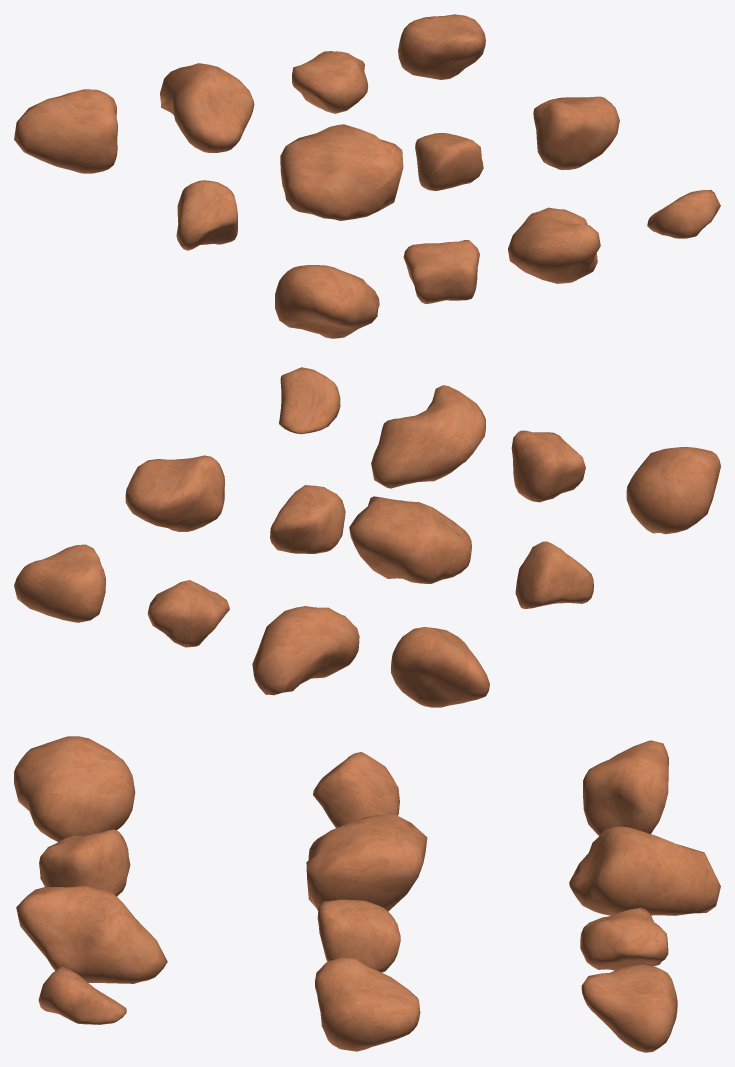
Rendered from Kayalar (1).fbx.
The picture shows the model from 3 angles, top to bottom: view 1: azimuth 30°, elevation 25°; view 2: azimuth 150°, elevation 25°; view 3: azimuth 270°, elevation 25°; orthographic projection. The views are drawn at different scales.
Parts seen in each view (by area): view 1: Rock08, Rock03, Rock02, Rock05, Rock04, Rock12, Rock01, Rock06, Rock09, Rock07, Rock11, Rock10; view 2: Rock08, Rock04, Rock02, Rock05, Rock12, Rock03, Rock01, Rock06, Rock11, Rock09, Rock07, Rock10; view 3: Rock04, Rock02, Rock05, Rock08, Rock12, Rock03, Rock01, Rock11, Rock06, Rock09, Rock07, Rock10.
Boxes of the visible parts, bbox=[...] form: Rock08: bbox=[280, 124, 403, 220]; Rock03: bbox=[14, 89, 118, 173]; Rock02: bbox=[160, 63, 254, 152]; Rock05: bbox=[275, 265, 379, 338]; Rock04: bbox=[508, 207, 600, 283]; Rock12: bbox=[533, 96, 619, 169]; Rock01: bbox=[398, 14, 485, 79]; Rock06: bbox=[403, 240, 479, 303]; Rock09: bbox=[176, 180, 237, 250]; Rock07: bbox=[292, 51, 368, 113]; Rock11: bbox=[415, 133, 483, 190]; Rock10: bbox=[647, 190, 720, 238]; Rock08: bbox=[349, 496, 471, 583]; Rock04: bbox=[371, 385, 485, 488]; Rock02: bbox=[252, 606, 359, 695]; Rock05: bbox=[626, 447, 720, 534]; Rock12: bbox=[125, 455, 224, 531]; Rock03: bbox=[391, 627, 489, 707]; Rock01: bbox=[14, 544, 105, 622]; Rock06: bbox=[511, 430, 585, 502]; Rock11: bbox=[270, 485, 345, 553]; Rock09: bbox=[515, 541, 593, 608]; Rock07: bbox=[147, 580, 229, 647]; Rock10: bbox=[279, 367, 340, 434]; Rock04: bbox=[16, 885, 167, 983]; Rock02: bbox=[569, 826, 720, 915]; Rock05: bbox=[14, 736, 135, 841]; Rock08: bbox=[306, 814, 427, 911]; Rock12: bbox=[315, 957, 420, 1051]; Rock03: bbox=[583, 740, 668, 835]; Rock01: bbox=[581, 964, 677, 1052]; Rock11: bbox=[317, 899, 400, 972]; Rock06: bbox=[39, 829, 130, 896]; Rock09: bbox=[313, 752, 399, 827]; Rock07: bbox=[580, 907, 668, 970]; Rock10: bbox=[38, 966, 126, 1024].
Bounding box in the file's own units: 1176 × 204 × 1305.
